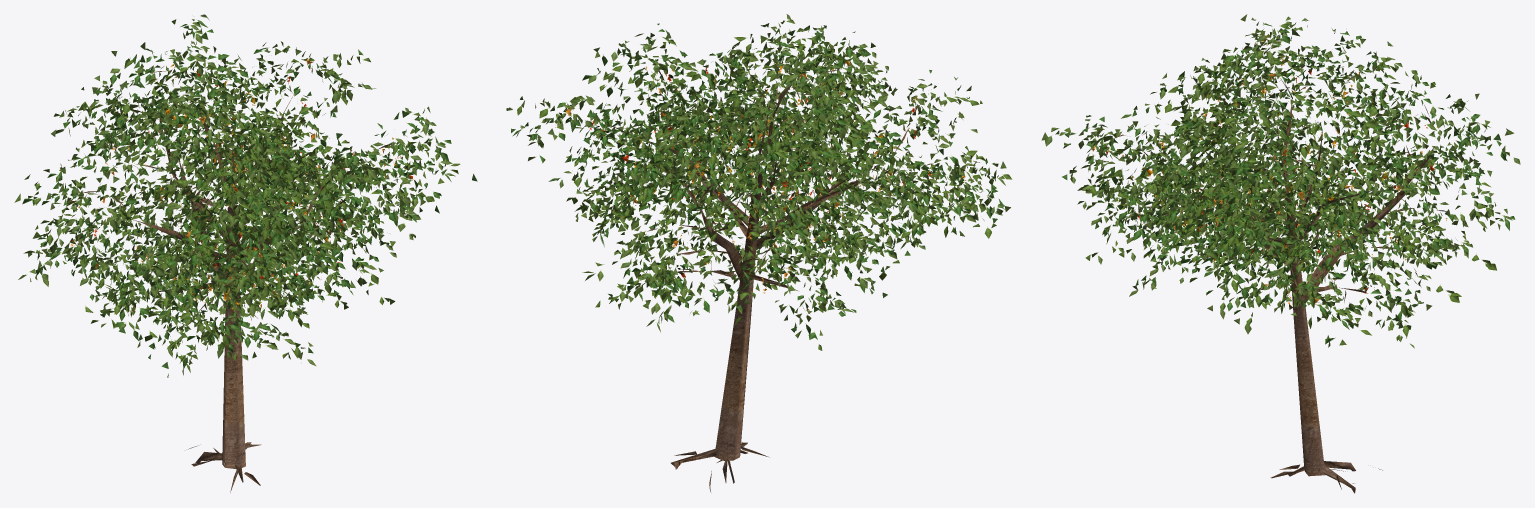
The model's file is mandarino_far.glb.
3 views of the same model, side by side, from view 1: azimuth 30°, elevation 25°; view 2: azimuth 150°, elevation 25°; view 3: azimuth 270°, elevation 25° (orthographic). The views are drawn at different scales.
Visible parts, largest first — view 1: Mandarin_tree; view 2: Mandarin_tree; view 3: Mandarin_tree.
Boxes of the visible parts, box(x1,y1,x2,y2) form: Mandarin_tree: box(14, 14, 477, 492); Mandarin_tree: box(506, 14, 1012, 491); Mandarin_tree: box(1041, 14, 1520, 493).
Bounding box in the file's own units: 5.92 × 5.82 × 5.93.
Materials: 10 (10 with a texture image).
